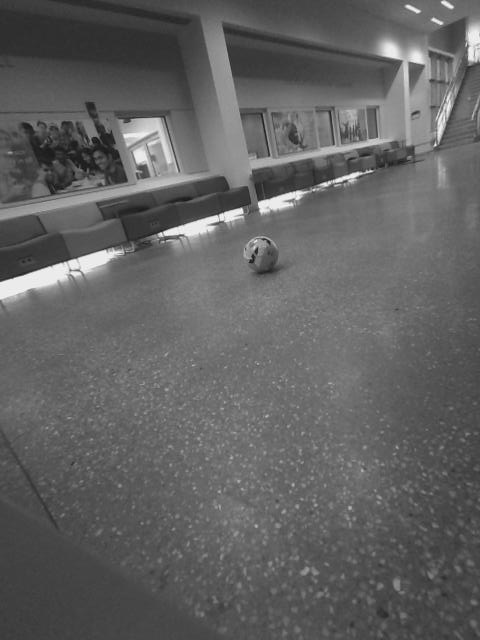ball: (240, 228, 285, 275)
